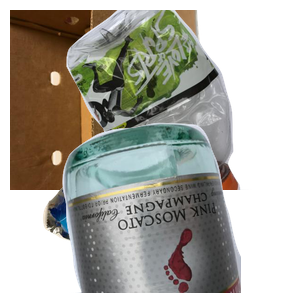cardboard: (10, 10, 211, 190)
glass: (60, 120, 300, 300)
plastic: (64, 10, 300, 190)
trash: (40, 158, 245, 300)
